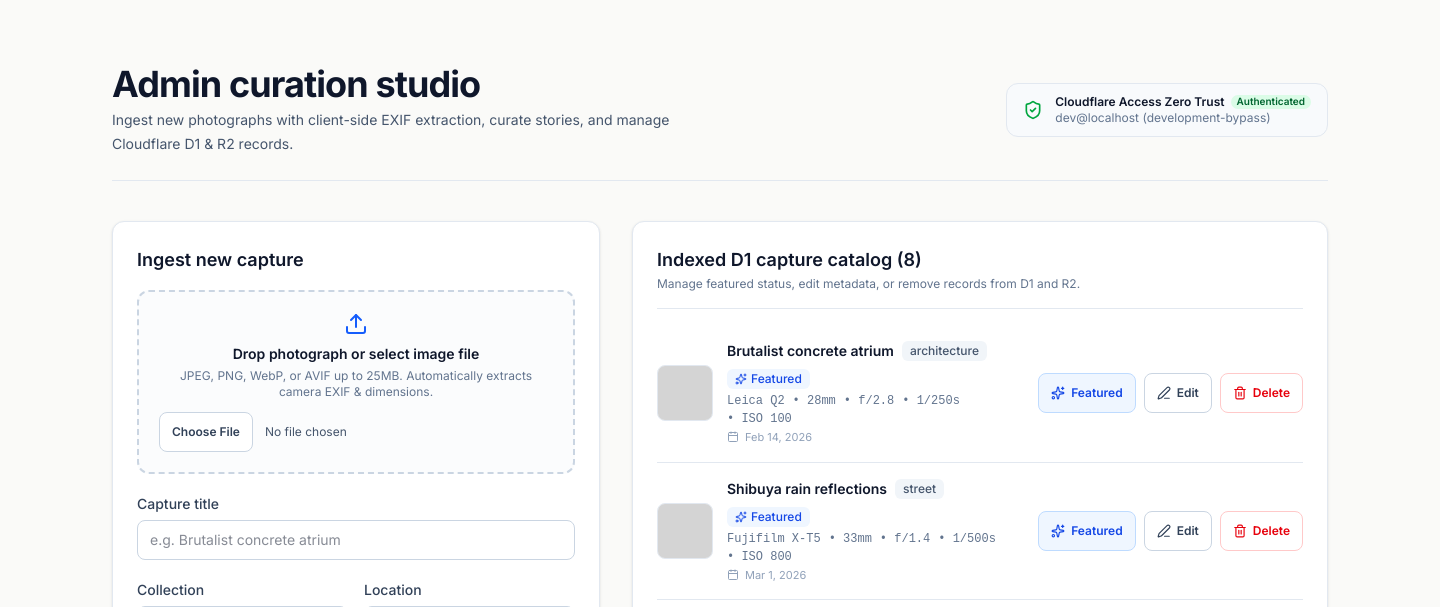
Test: Empirical Challenger: Admin Curation Studio Adversarial Suite › 4. Capture editing lifecycle › allows switching editing targets directly and applies edits on save
The width and height of the screenshot is (1440, 607).
# Edit first capture
Step 1. Click the button with aria-label "edit brutalist concrete atrium" → click(1178, 393), box [1144, 373, 1212, 413]
(page scrolled)
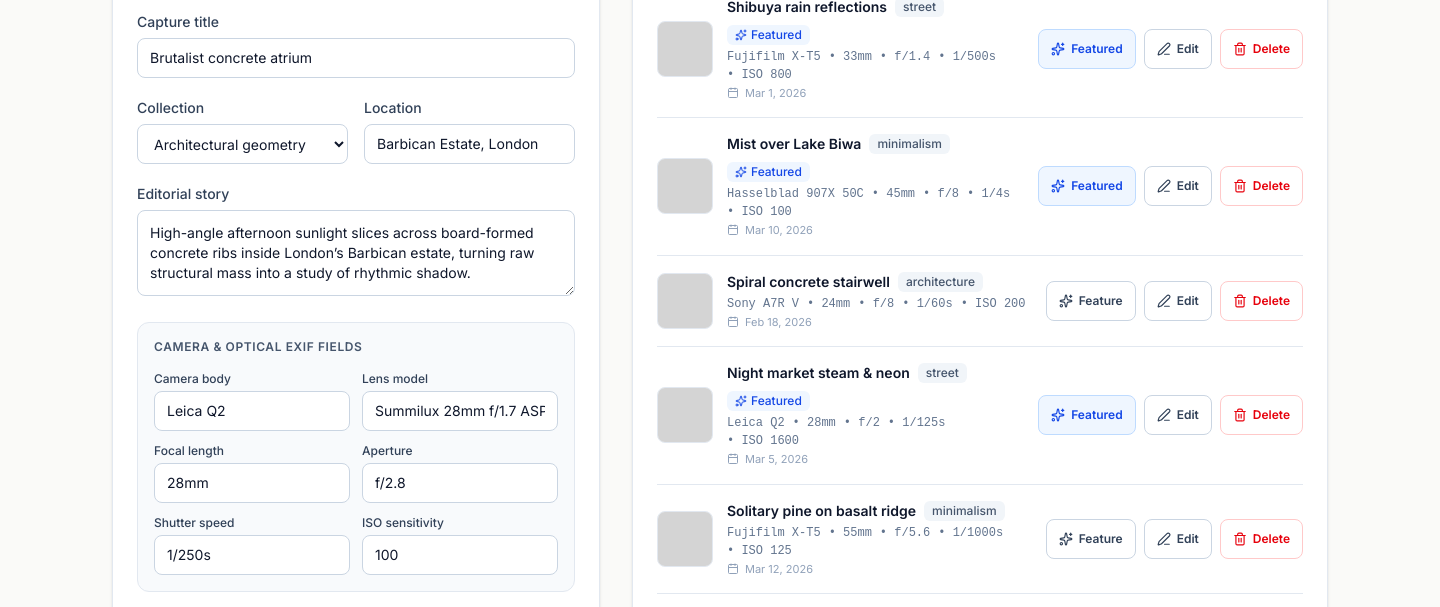
Expected: the field labelled "Capture title" holds "Brutalist concrete atrium", [137, 38, 575, 78]
# Click edit on second capture without explicit cancel
Step 2. Click the button with aria-label "edit spiral concrete stairwell" → click(1178, 301), box [1144, 281, 1212, 321]
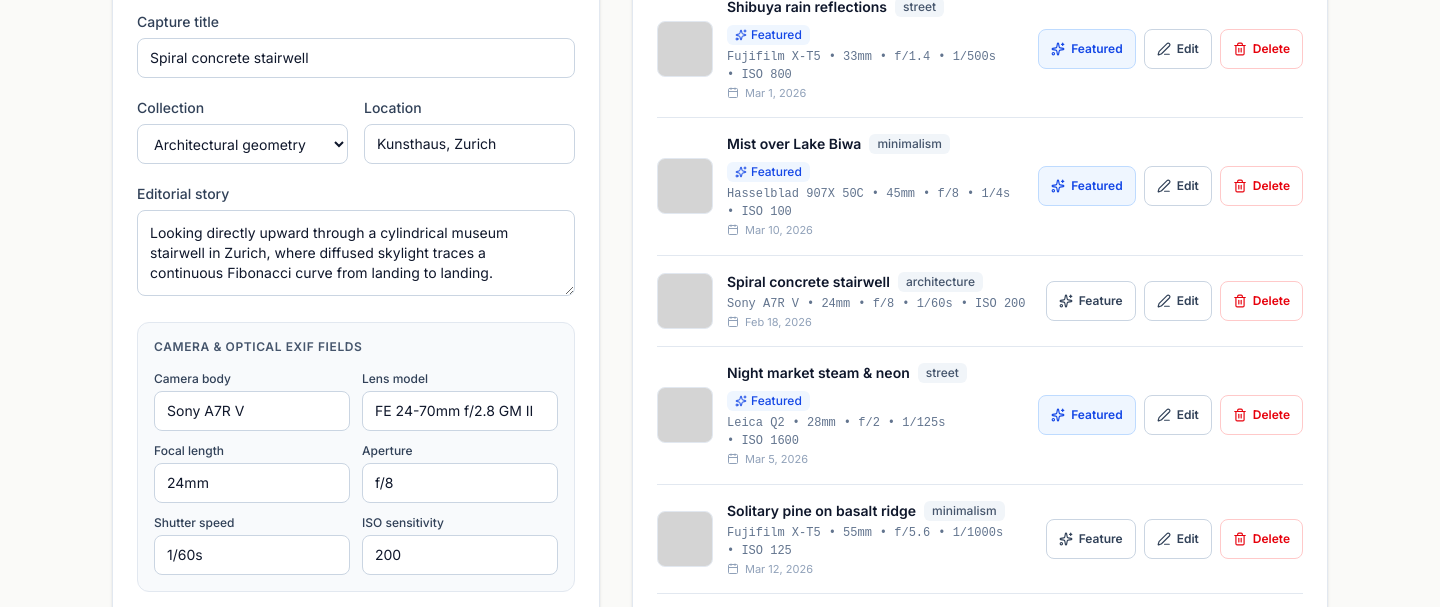
Expected: the field labelled "Capture title" holds "Spiral concrete stairwell", [137, 38, 575, 78]
# Update story and save
Step 3. Replace the text in the text box labelled "Editorial story" with "Updated architectural geometric stairwell story." → (356, 253), box [137, 210, 575, 296]
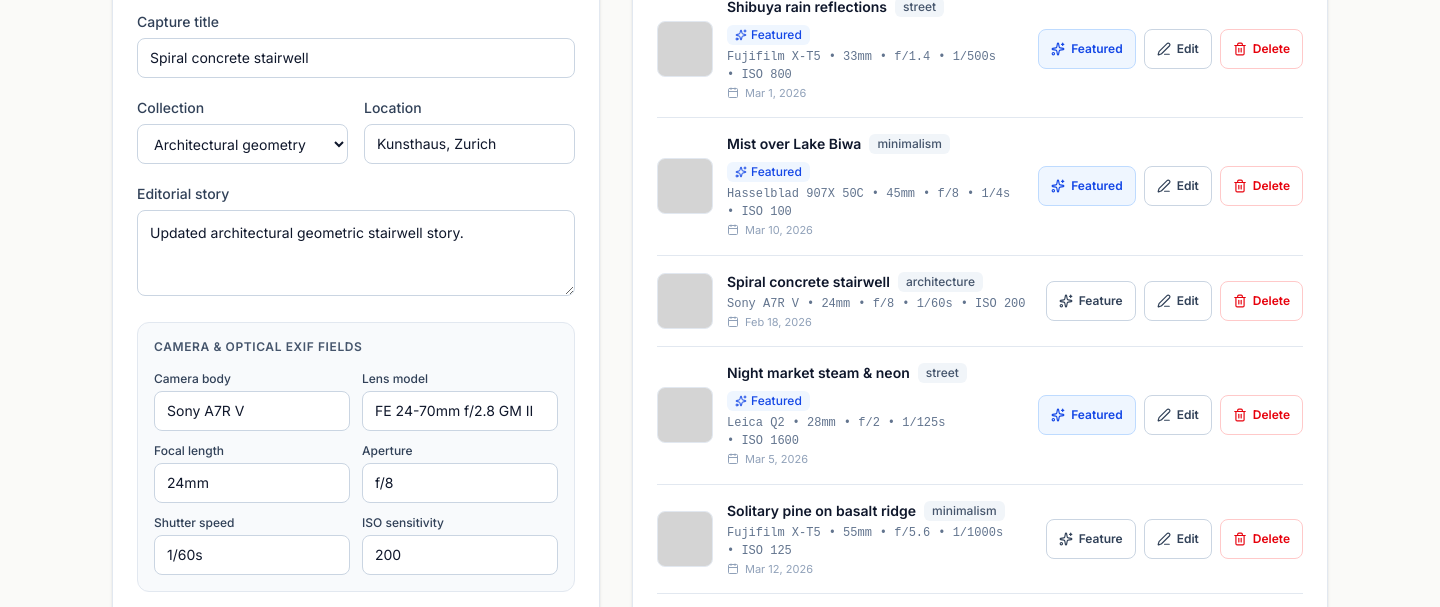
Step 4. Replace the text in the field labelled "Capture title" with "Helical concrete geometry" → (356, 58), box [137, 38, 575, 78]
(page scrolled)
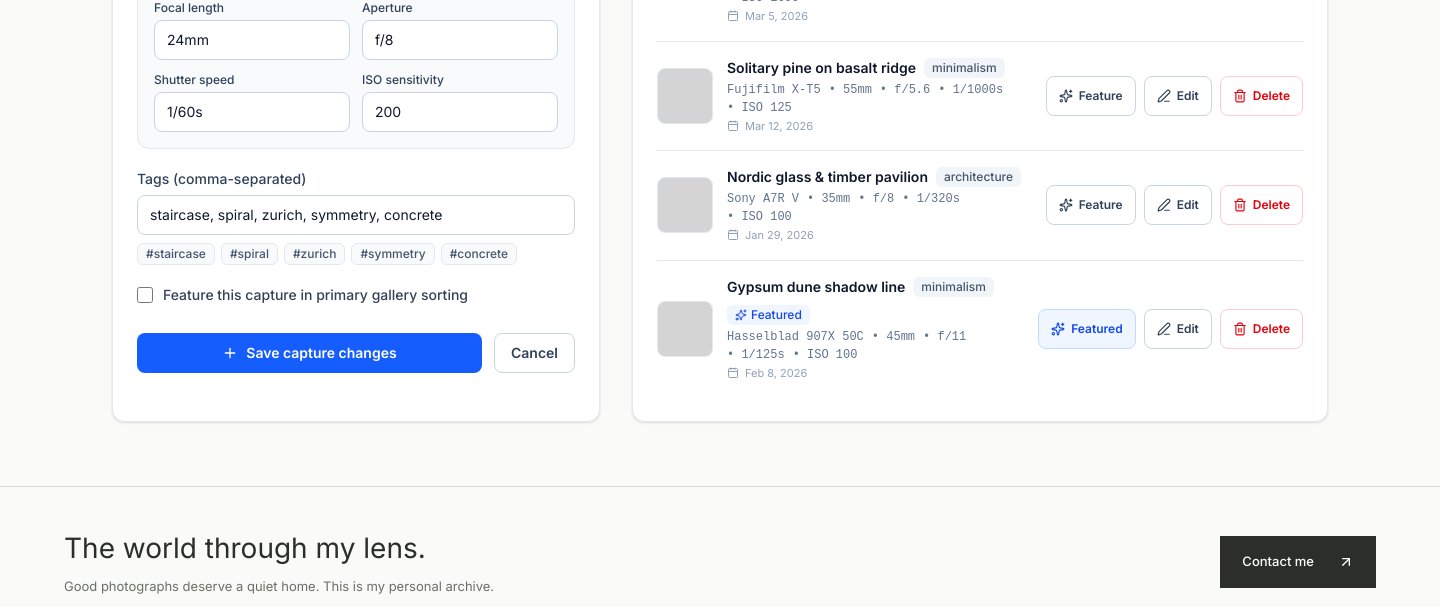
Step 5. Click the button "Save capture changes" → click(310, 353), box [137, 333, 482, 373]
(page scrolled)
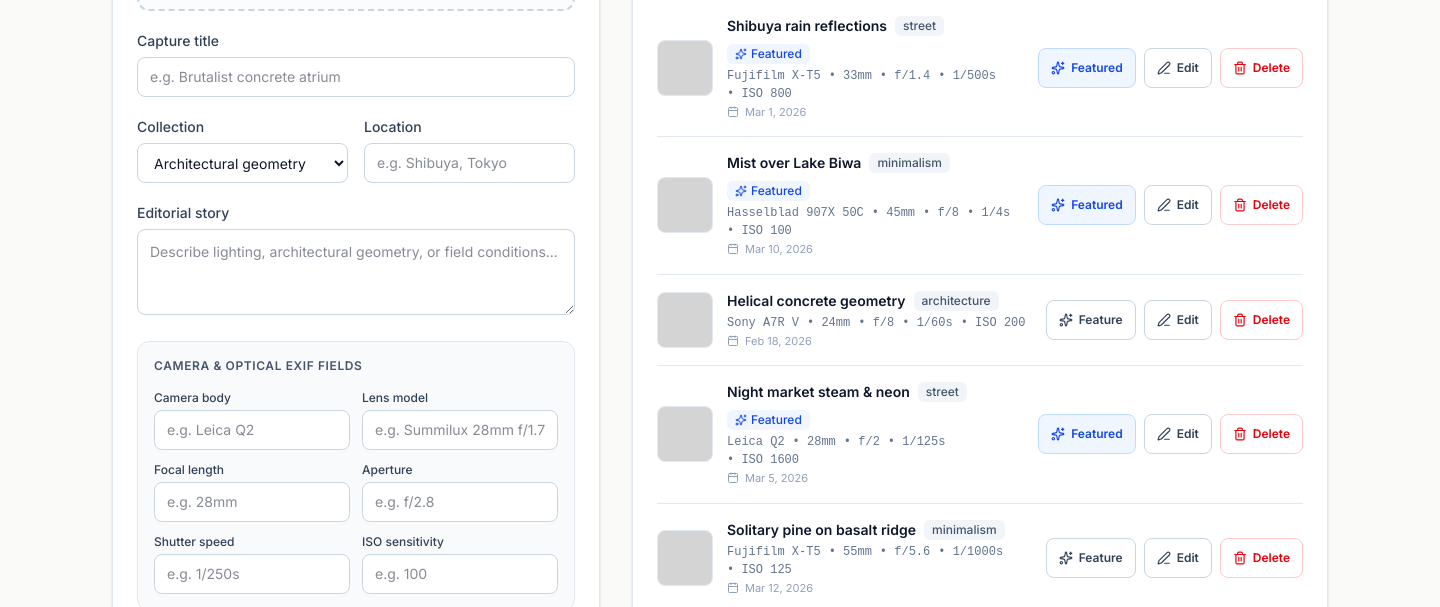
Expected: the field labelled "Capture title" is empty, [137, 57, 575, 97]
Expected: the text "Helical concrete geometry" is shown, [727, 290, 906, 310]
